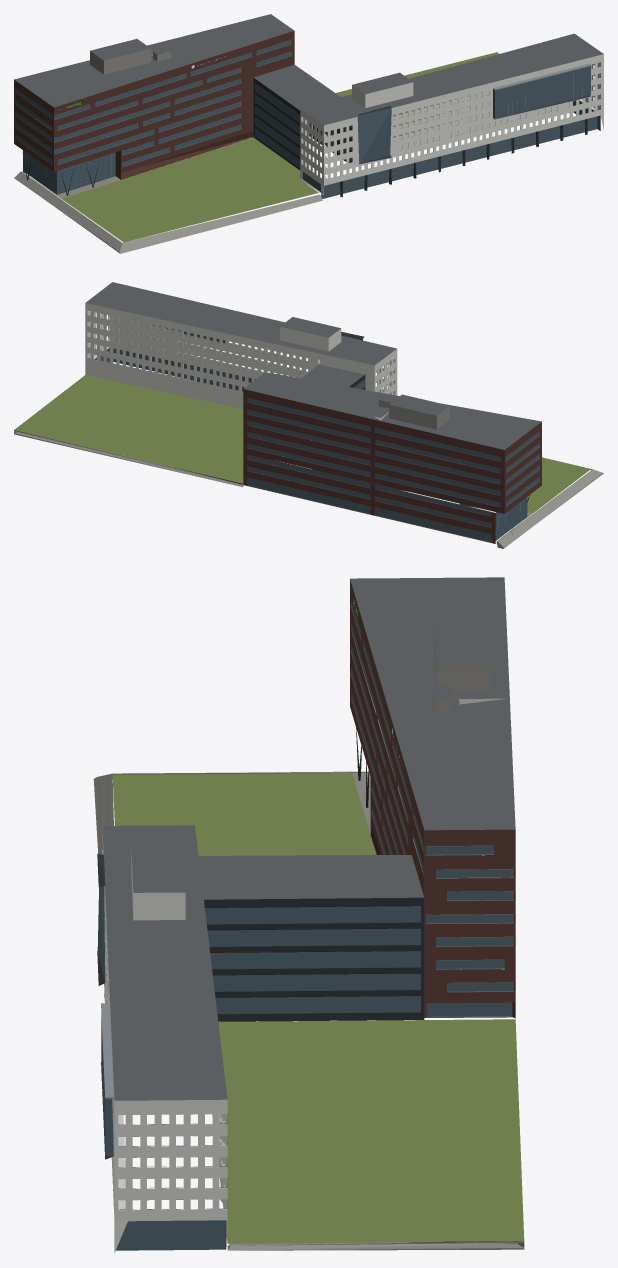
The model's file is ibis-city-west.lod1.glb.
3 renders of one model, top to bottom at view 1: azimuth 30°, elevation 25°; view 2: azimuth 150°, elevation 25°; view 3: azimuth 270°, elevation 25°, orthographic. The views are drawn at different scales.
Parts seen in each view (by area): view 1: ibis-city-west; view 2: ibis-city-west; view 3: ibis-city-west.
Part boxes in pixels (x1,y1,x2,y2): ibis-city-west: [14, 14, 603, 253]; ibis-city-west: [14, 282, 603, 548]; ibis-city-west: [93, 577, 524, 1253].
Size of the model in its own units: 164 by 36.29 by 62.54.
